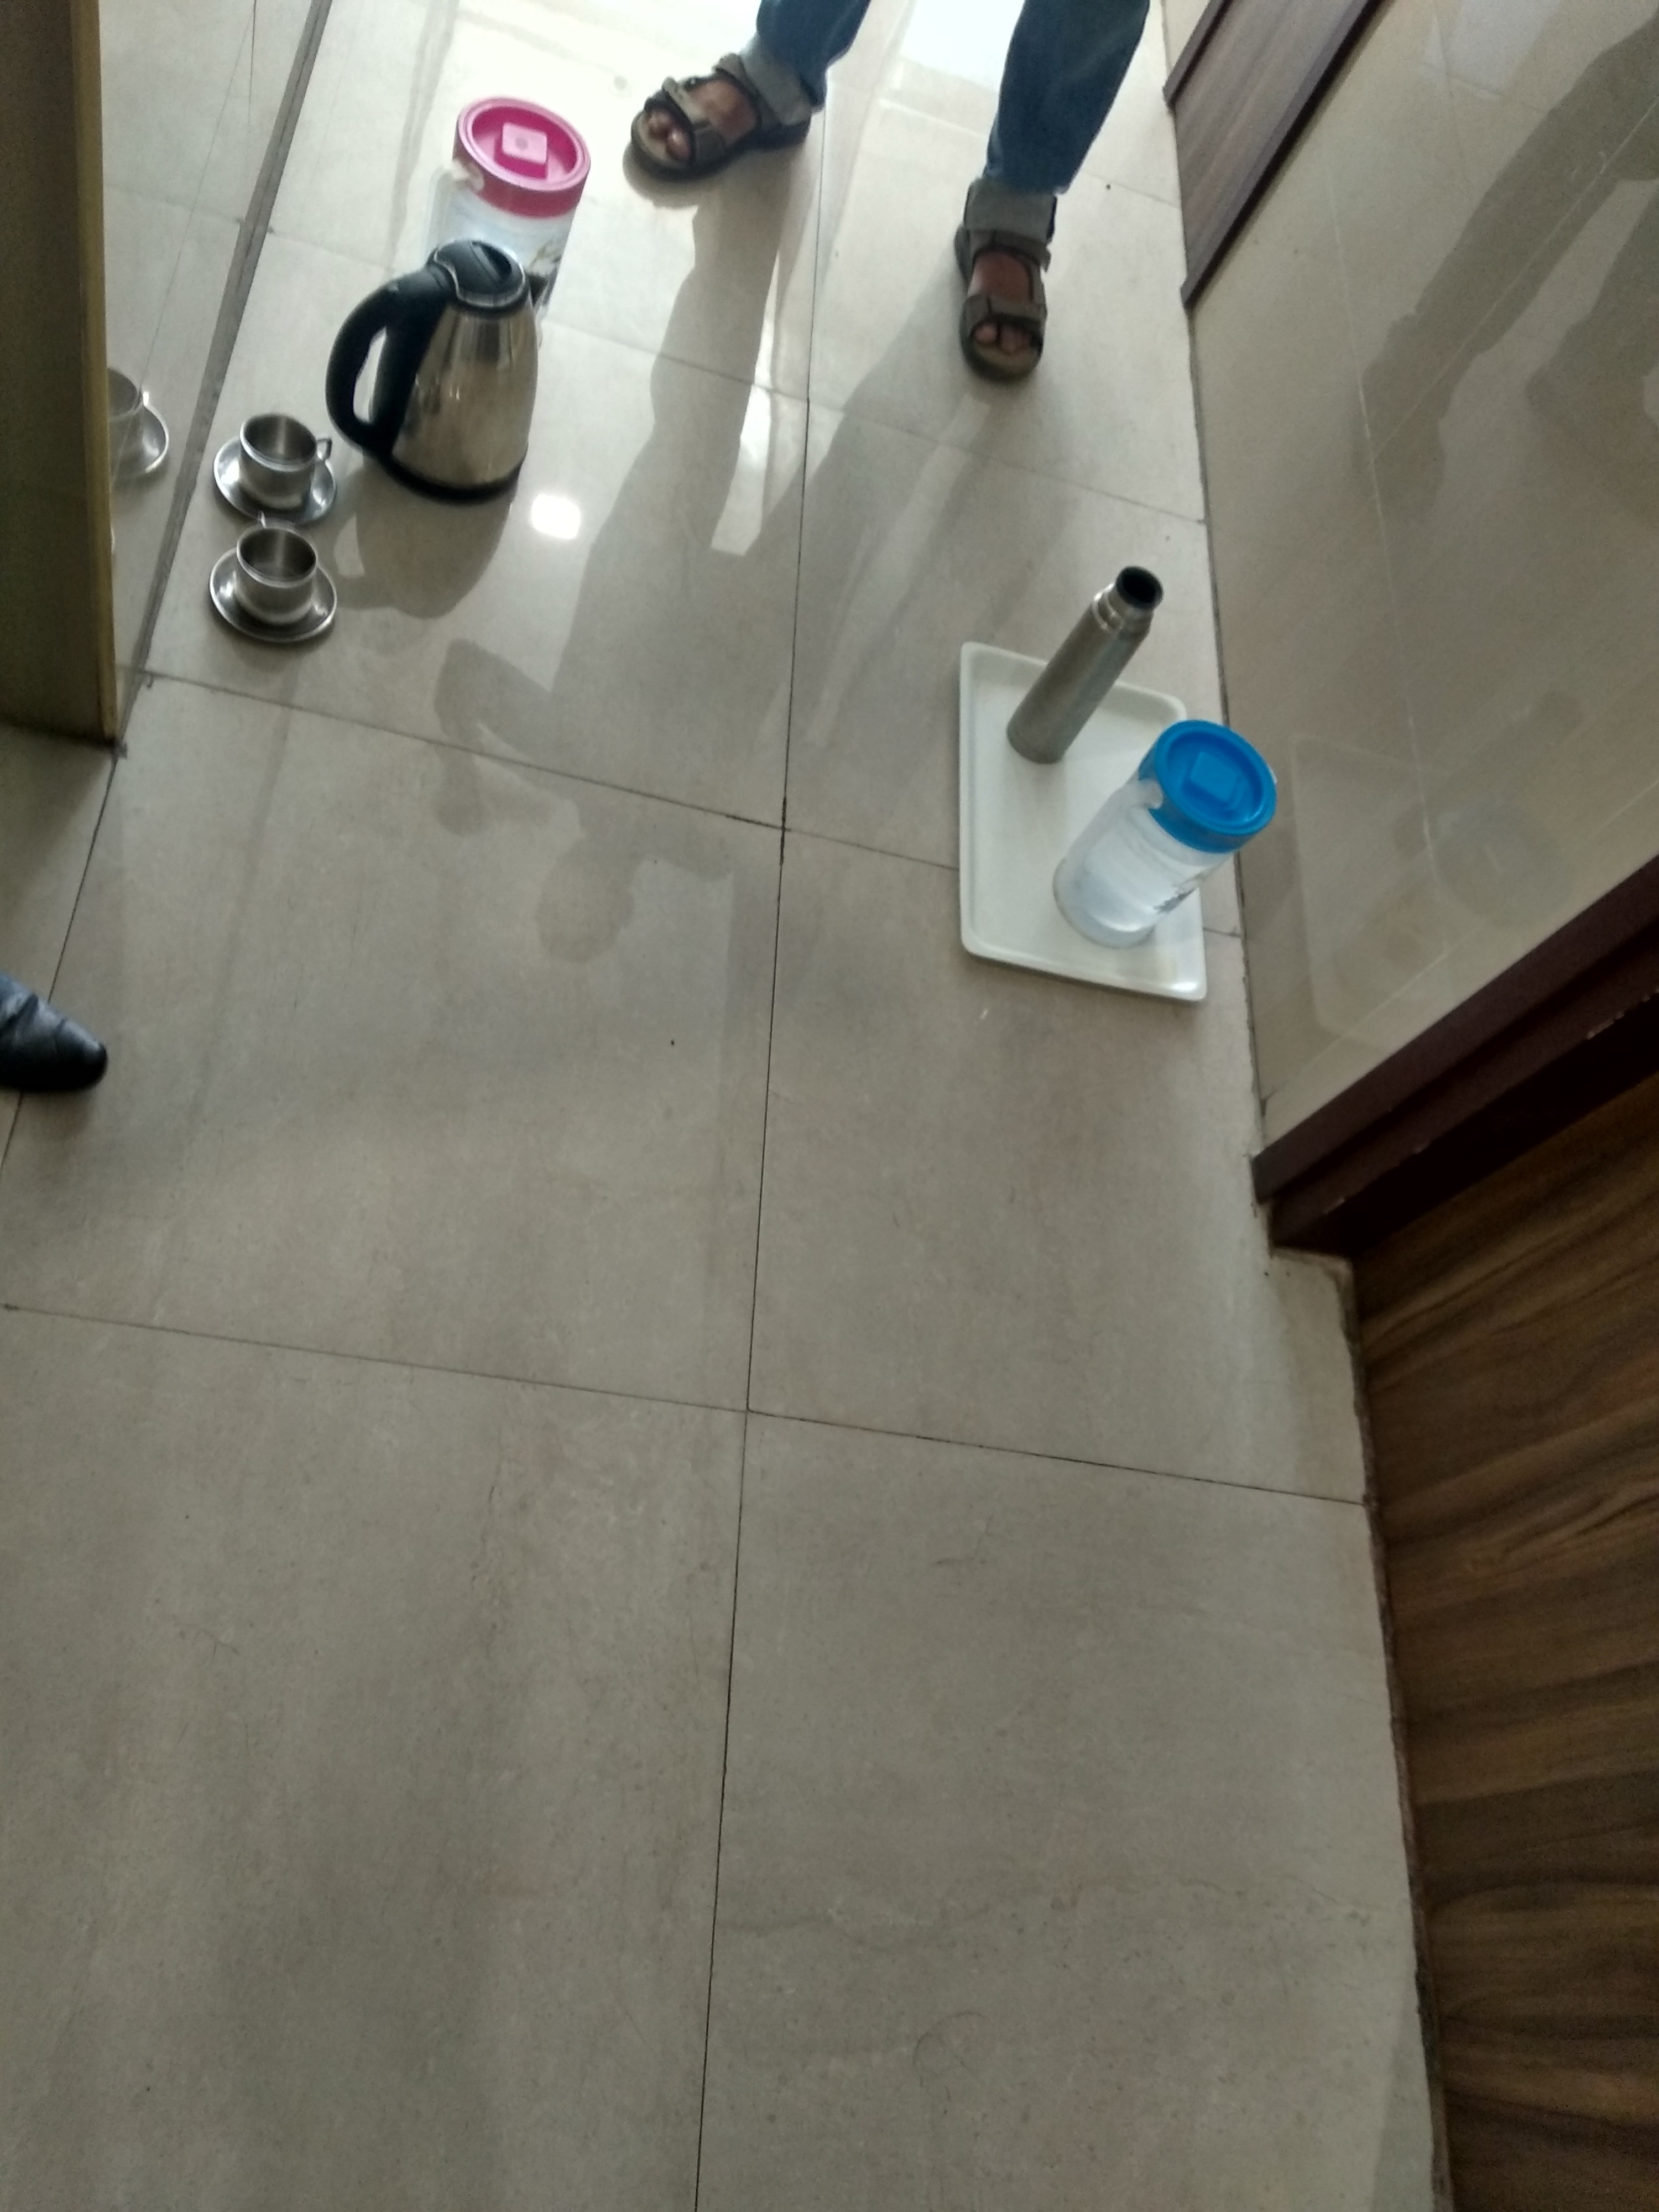CUP: (209, 510, 347, 646), (214, 415, 350, 519)
FLASK: (1011, 517, 1178, 773)
JUG: (329, 193, 563, 512), (1066, 700, 1288, 960), (437, 84, 594, 261)
